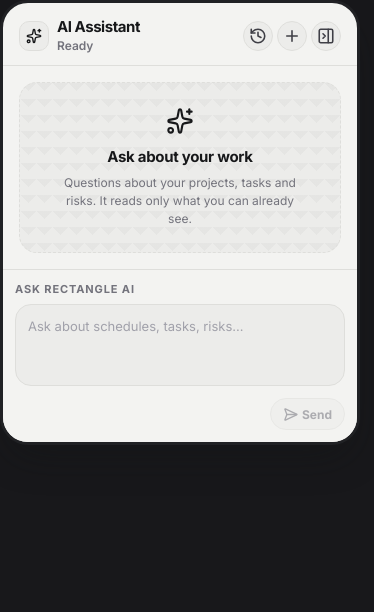
Test: AiAssistantPanel: proposed changes wait for a person › creates nothing until the person approves
Check: the text "Ready" is shown, box [57,38,93,52]
Type "add a task" into the text box labelled "Ask Rectangle AI" at x=180, y=345, box [15,304,345,386]
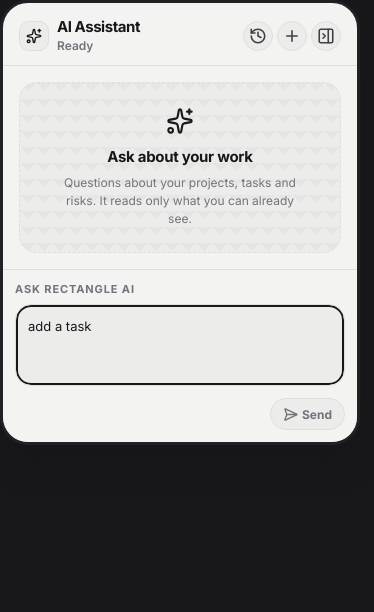
Click the button "Send" at x=308, y=414, box [270,398,345,430]
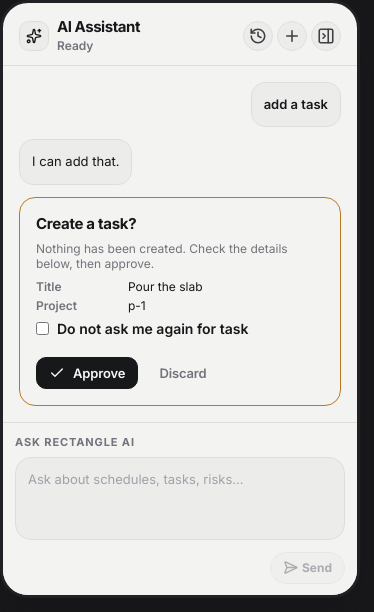
Check: the element named "Waiting for your approval" is shown, box [19,196,341,406]
Click the button "Approve" at x=87, y=372, box [36,356,138,388]
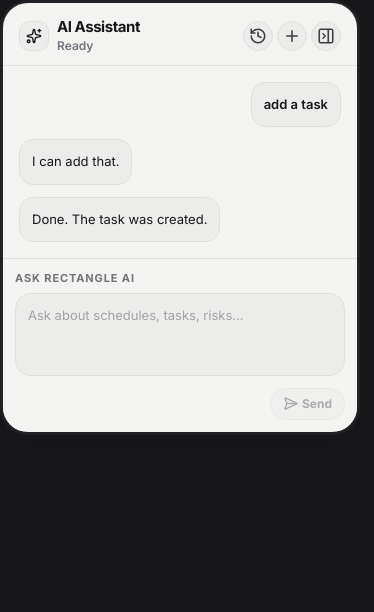
Check: the text "Done. The task was created." is shown, box [32,210,207,229]
